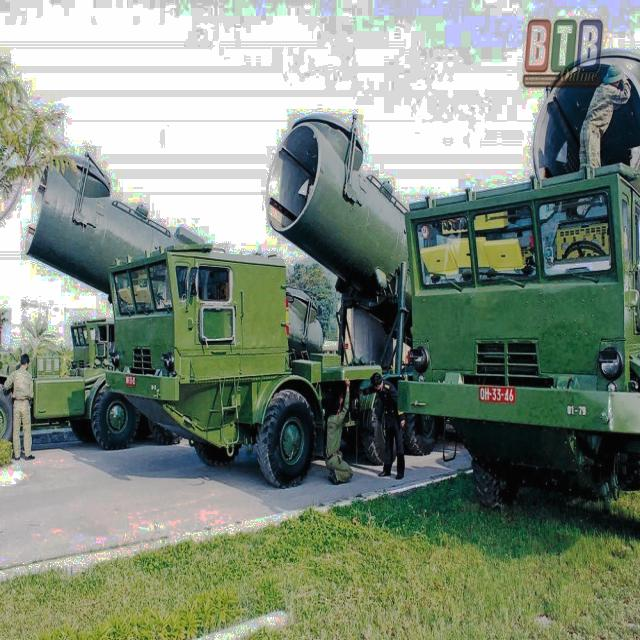license_plate: (480, 387, 517, 405)
